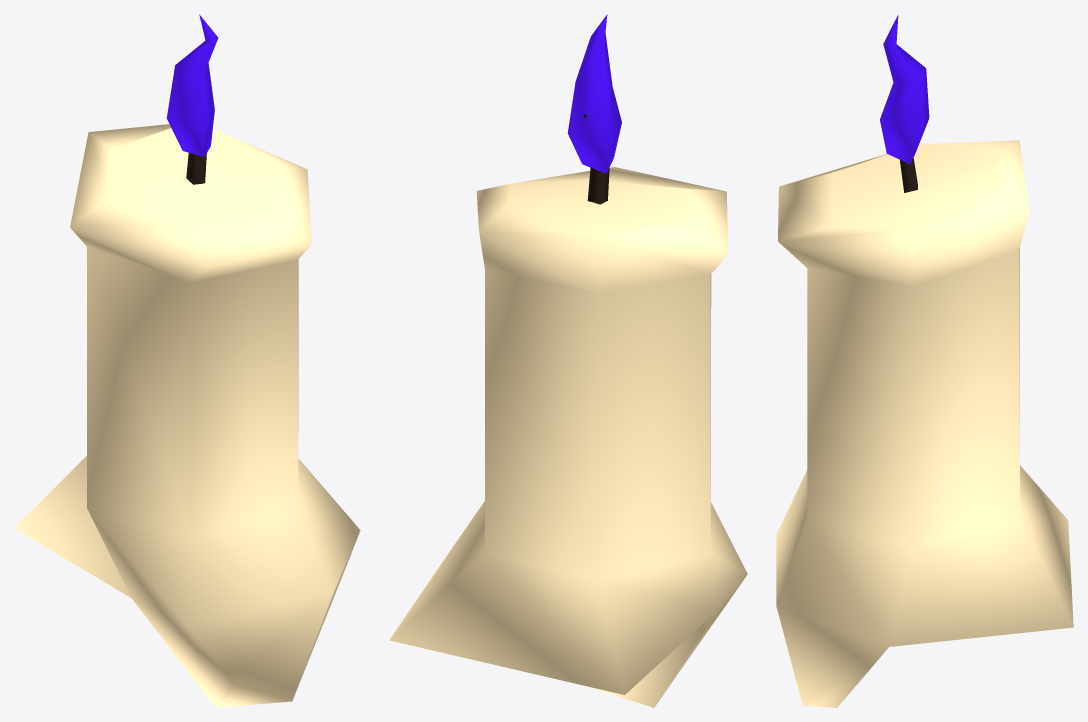
Rendered from CandleShapeE.007.glb.
3 views of the same model, side by side, from view 1: azimuth 30°, elevation 25°; view 2: azimuth 150°, elevation 25°; view 3: azimuth 270°, elevation 25° (orthographic). The views are drawn at different scales.
Visible parts, largest first — view 1: CandleShapeE.007; view 2: CandleShapeE.007; view 3: CandleShapeE.007.
Part boxes in pixels (x1=…): CandleShapeE.007: x1=14, y1=14, x2=360, y2=707; CandleShapeE.007: x1=389, y1=14, x2=747, y2=707; CandleShapeE.007: x1=776, y1=15, x2=1073, y2=707.
Bounding box in the file's own units: 0.1424 × 0.327 × 0.1308.
2 materials, 2 textured.
